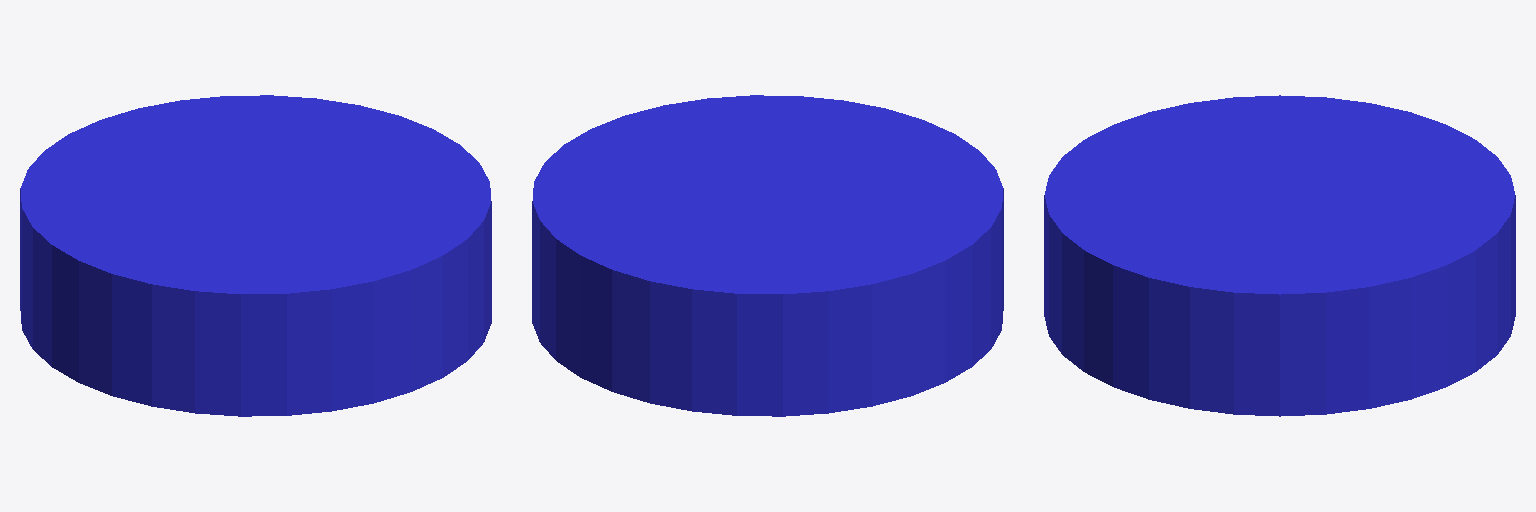
URDF robot description (ugv_example):
<?xml version="1.0"?>
<!--
/****************************************************************************
 *   Copyright (c) 2018 [author]. All rights reserved.
 *
 * Redistribution and use in source and binary forms, with or without
 * modification, are permitted provided that the following conditions
 * are met:
 *
 * 1. Redistributions of source code must retain the above copyright
 *    notice, this list of conditions and the following disclaimer.
 * 2. Redistributions in binary form must reproduce the above copyright
 *    notice, this list of conditions and the following disclaimer in
 *    the documentation and/or other materials provided with the
 *    distribution.
 * 3. Neither the name ATLFlight nor the names of its contributors may be
 *    used to endorse or promote products derived from this software
 *    without specific prior written permission.
 *
 * NO EXPRESS OR IMPLIED LICENSES TO ANY PARTY'S PATENT RIGHTS ARE GRANTED BY THIS LICENSE.
 * THIS SOFTWARE IS PROVIDED BY THE COPYRIGHT [author]
 * "AS IS" AND ANY EXPRESS OR IMPLIED WARRANTIES, INCLUDING, BUT NOT
 * LIMITED TO, THE IMPLIED WARRANTIES OF MERCHANTABILITY AND FITNESS
 * FOR A PARTICULAR PURPOSE ARE DISCLAIMED. IN NO EVENT SHALL THE
 * COPYRIGHT [author] LIABLE FOR ANY DIRECT, INDIRECT,
 * INCIDENTAL, SPECIAL, EXEMPLARY, OR CONSEQUENTIAL DAMAGES (INCLUDING,
 * BUT NOT LIMITED TO, PROCUREMENT OF SUBSTITUTE GOODS OR SERVICES; LOSS
 * OF USE, DATA, OR PROFITS; OR BUSINESS INTERRUPTION) HOWEVER CAUSED
 * AND ON ANY THEORY OF LIABILITY, WHETHER IN CONTRACT, STRICT
 * LIABILITY, OR TORT (INCLUDING NEGLIGENCE OR OTHERWISE) ARISING IN
 * ANY WAY OUT OF THE USE OF THIS SOFTWARE, EVEN IF ADVISED OF THE
 * POSSIBILITY OF SUCH DAMAGE.
 *
 * In addition Supplemental Terms apply.  See the SUPPLEMENTAL file.
 ****************************************************************************/
-->
<robot name="ugv_example">
  <link name="base_link">
    <visual>
      <geometry>
        <cylinder length="0.1" radius="0.175"/>
      </geometry>
      <origin rpy="0 0 0" xyz="0 0 0.05"/>
      <material name="blue">
        <color rgba="0.25 0.25 0.9 1"/>
      </material>
    </visual>
  </link>
</robot>

--- Render facts (derived) ---
The picture shows the robot from 3 angles, left to right: view 1: azimuth 30°, elevation 25°; view 2: azimuth 150°, elevation 25°; view 3: azimuth 270°, elevation 25°; orthographic projection.
Robot: ugv_example — 1 links, 0 joints (none); root link base_link; default pose: every joint at zero.
Visible links, largest first — view 1: base_link; view 2: base_link; view 3: base_link.
Boxes of the visible links, x1,y1,x2,y2 form: base_link: (20, 95, 491, 416); base_link: (532, 95, 1003, 416); base_link: (1044, 95, 1515, 416).
Size in the robot's own frame: 0.35 by 0.35 by 0.1 metres.
Geometry: primitives only (box / cylinder / sphere), no mesh files.